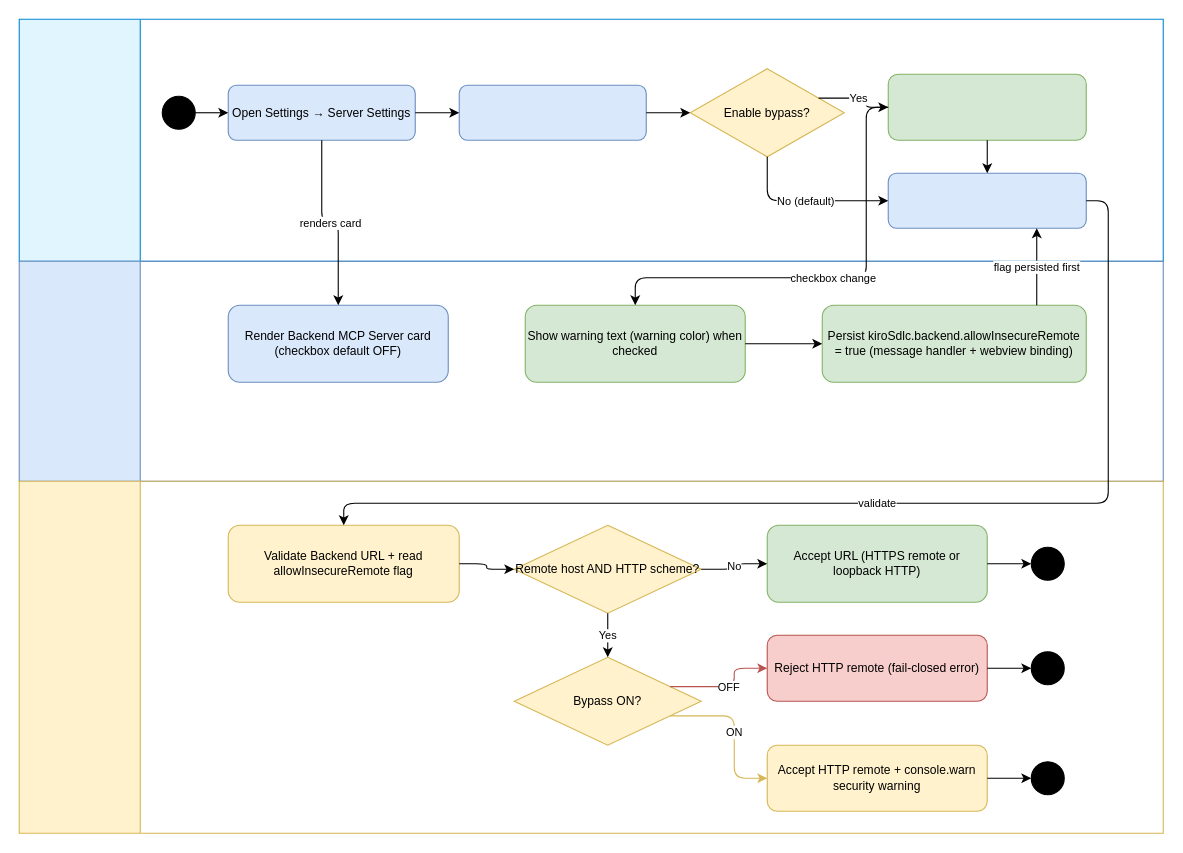
This 1183x853 diagram has some shape labels left out. Here are the shapes that lost their labels. From the top down, the box of each, then its label:
(458, 84, 646, 140): Enter remote Backend URL
(887, 73, 1086, 140): Tick "Bypass HTTPS requirement for remote server"
(18, 18, 1163, 261): Extension User
(887, 172, 1086, 228): Save URL / Test Connection
(18, 260, 1163, 481): Settings UI (Webview)
(18, 480, 1163, 833): Validation Engine (Extension)
